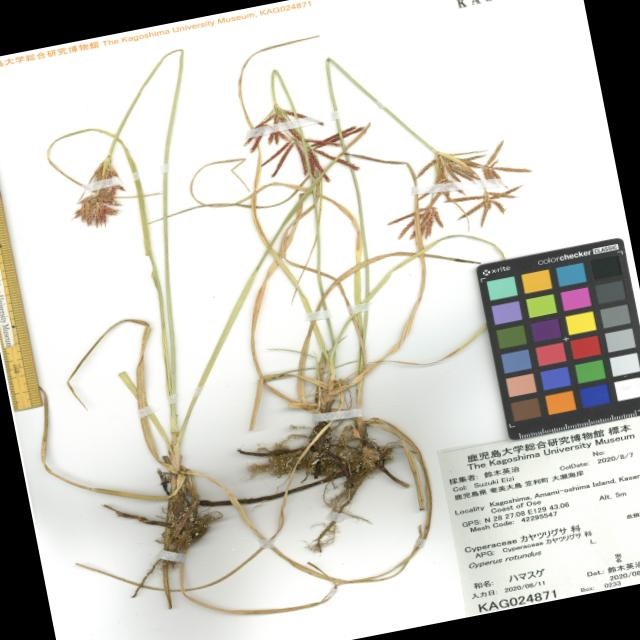cyperus: (233, 80, 386, 196), (384, 132, 536, 248), (56, 144, 142, 228)
